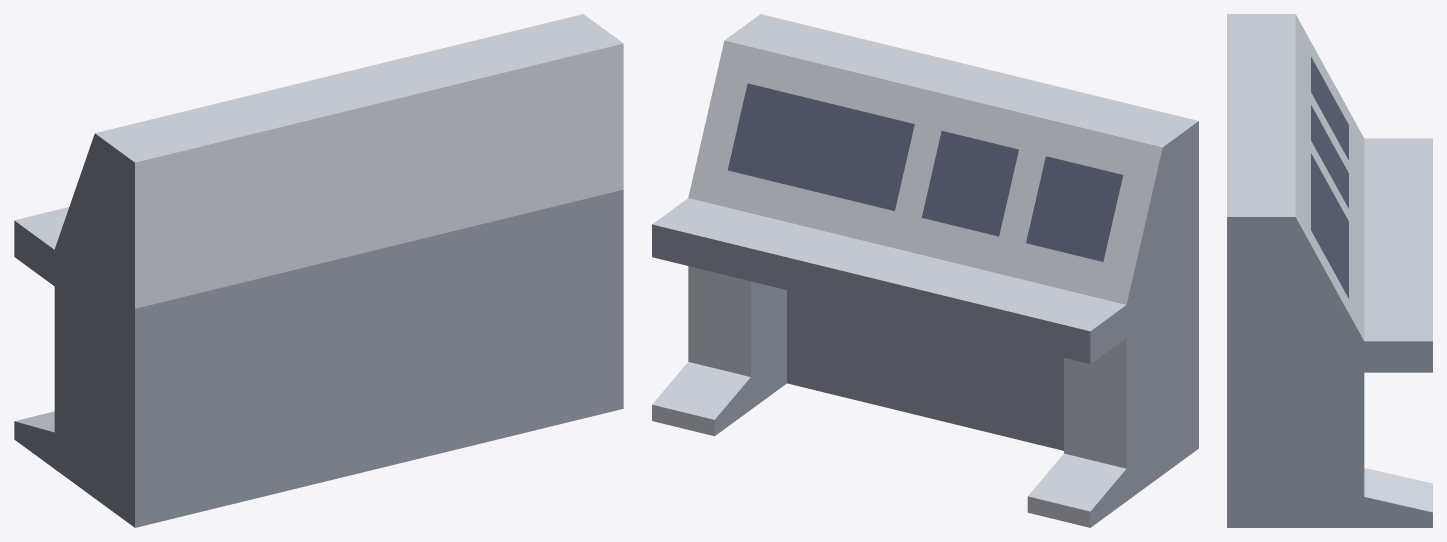
Rendered from desk_computer.glb.
3 renders of one model, left to right at view 1: azimuth 30°, elevation 25°; view 2: azimuth 150°, elevation 25°; view 3: azimuth 270°, elevation 25°, orthographic. The views are drawn at different scales.
Visible parts, largest first — view 1: desk_computer; view 2: desk_computer; view 3: desk_computer.
Boxes of the visible parts, x1=… form: desk_computer: x1=14, y1=14, x2=623, y2=527; desk_computer: x1=652, y1=14, x2=1198, y2=527; desk_computer: x1=1227, y1=14, x2=1432, y2=527.
Size of the model in its own units: 0.525 by 0.375 by 0.225.
